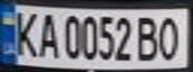0: (78, 11, 100, 61), (60, 11, 81, 61)
2: (112, 12, 136, 62)
5: (97, 12, 118, 62)
A: (33, 9, 60, 60)
B: (133, 12, 163, 62)
K: (9, 7, 42, 58)
O: (154, 12, 187, 62)
